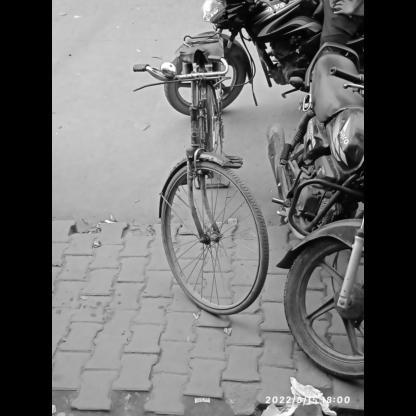Bicycle: (114, 33, 278, 326)
